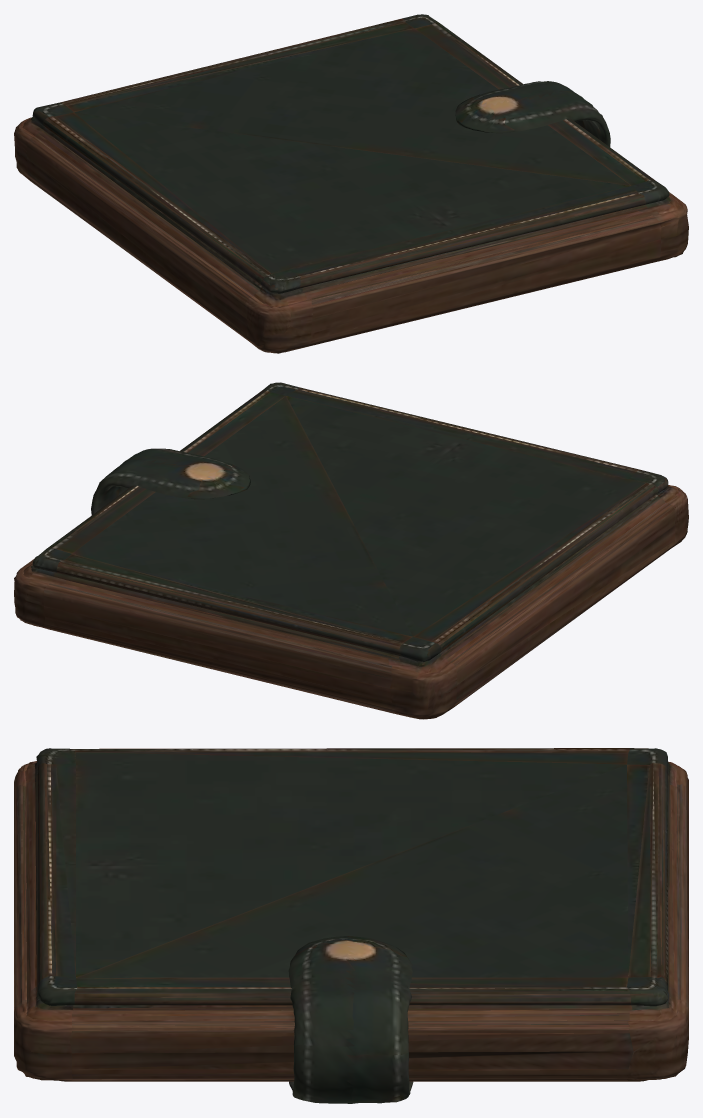
The model's file is archive-binder-closed-web.glb.
3 views of the same model, one above another, from view 1: azimuth 30°, elevation 25°; view 2: azimuth 150°, elevation 25°; view 3: azimuth 270°, elevation 25° (orthographic). The views are drawn at different scales.
Parts seen in each view (by area): view 1: Mesh_0; view 2: Mesh_0; view 3: Mesh_0.
Boxes of the visible parts, x1,y1,x2,y2 form: Mesh_0: [14, 14, 688, 353]; Mesh_0: [14, 382, 688, 719]; Mesh_0: [14, 748, 688, 1103].
Bounding box in the file's own units: 0.098 × 0.02 × 0.098.
1 material, 1 textured.
